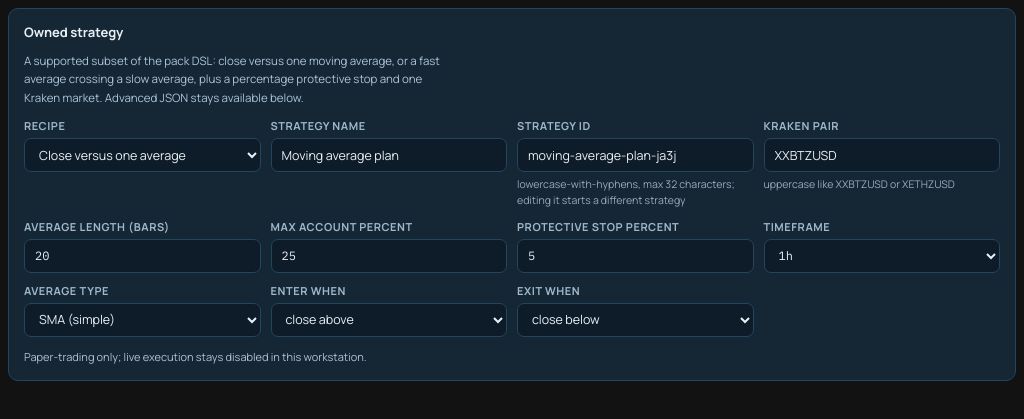
Test: OwnedStrategyForm signal slice — verbatim source labels › switches to the verbatim crossover comparison labels on the ma_cross recipe
The width and height of the screenshot is (1024, 419).
Select "Two-average crossover (fast vs slow)" in the dropdown labelled "Recipe" at (142, 155), box [24,138,260,172]
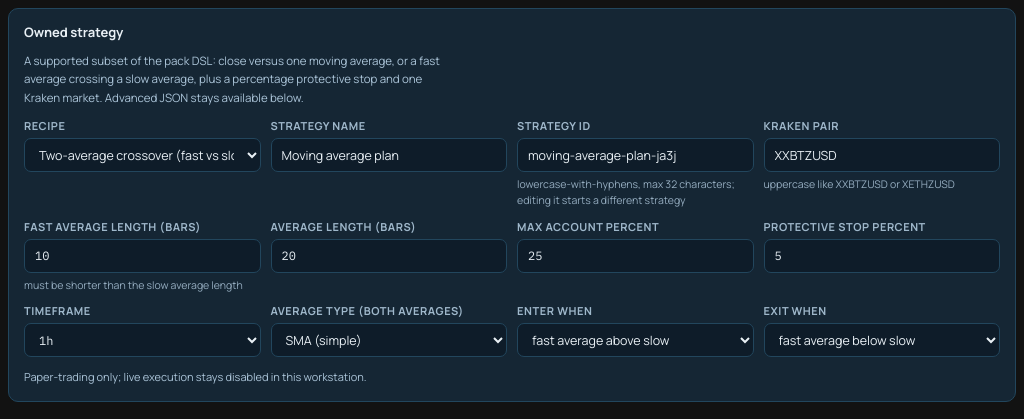
Result: the field with id "kbot-owned-strategy-fastLength" is shown at [24,239,260,273]
